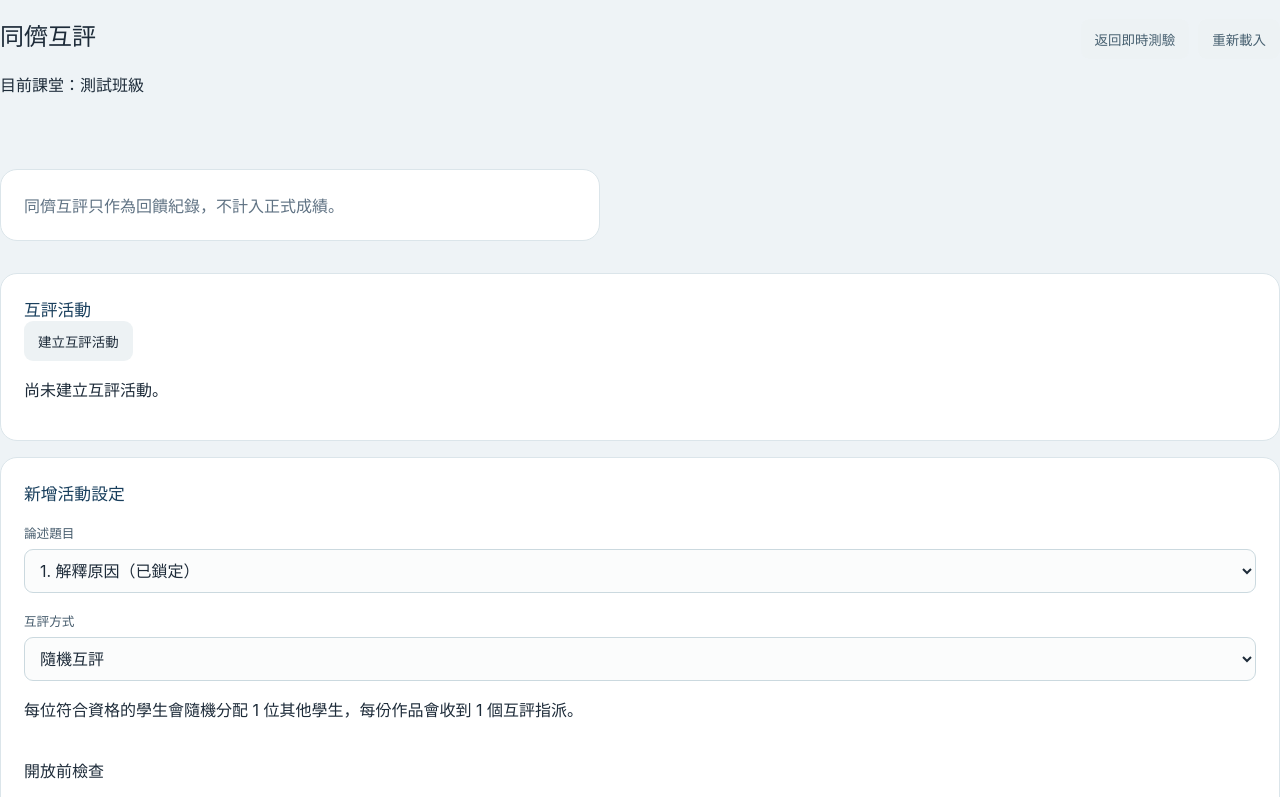
Teacher Peer Review setup › requires a finalized group set
Step 1. Select "跨組互評" in the dropdown labelled "互評方式" → [640, 659], box [24,637,1256,681]
(page scrolled)
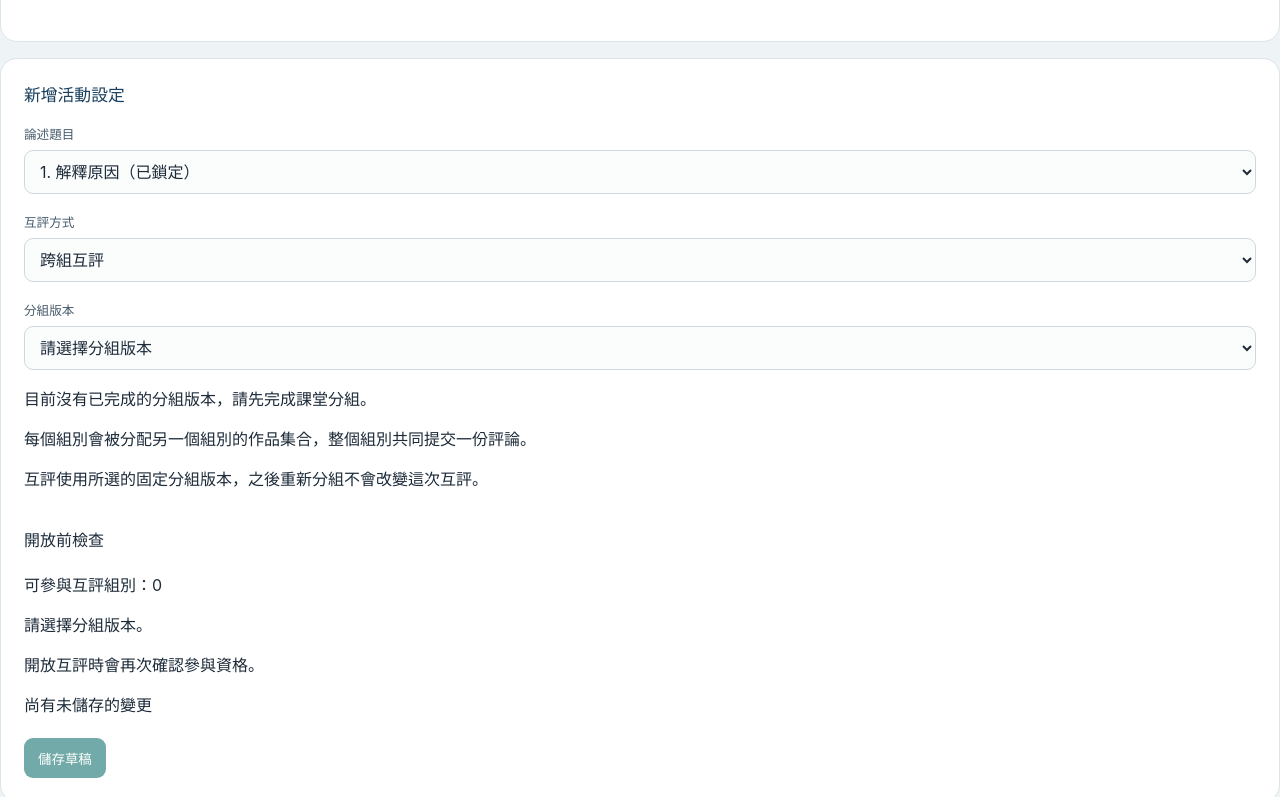
expect the button "儲存草稿" is disabled: met, box [24,738,106,778]
expect the text "目前沒有已完成的分組版本，請先完成課堂分組。" is shown: met, box [24,389,376,409]
